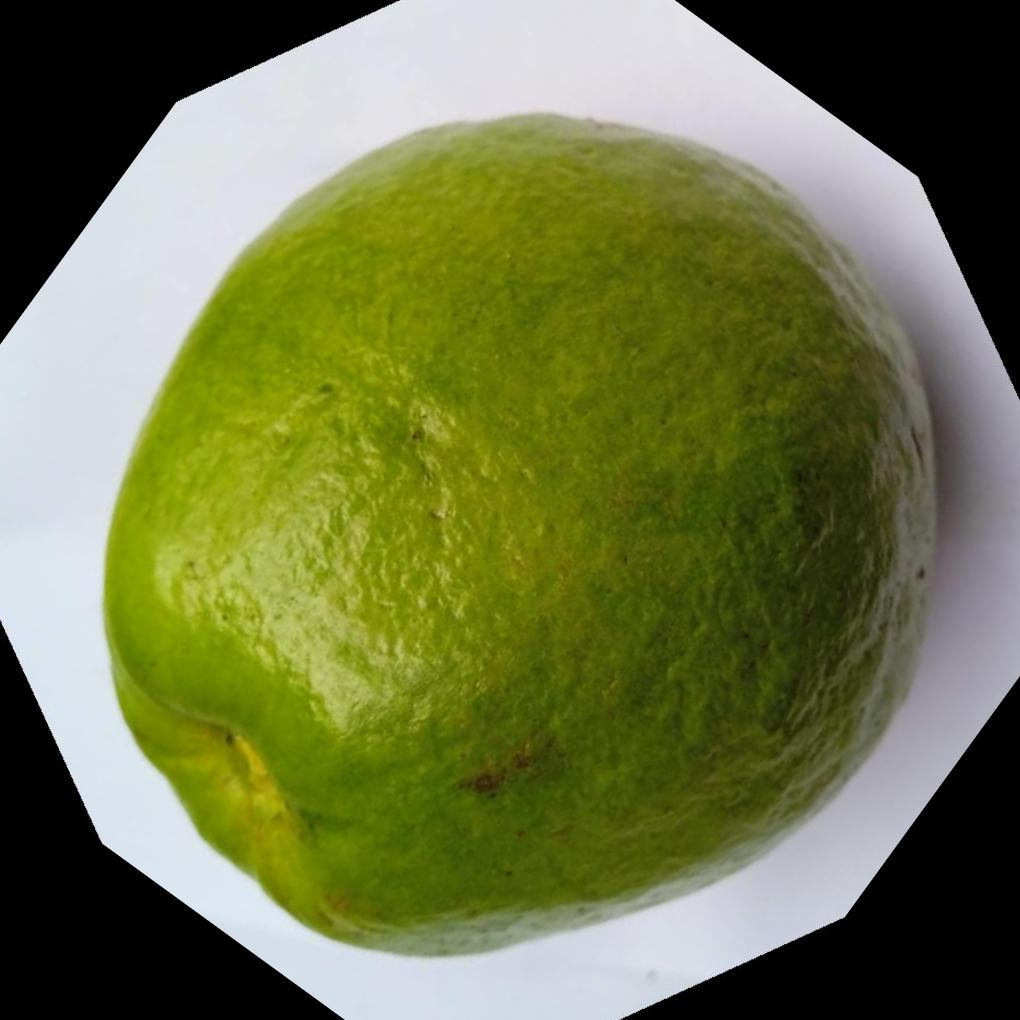FreshGuava: (103, 111, 944, 961)
